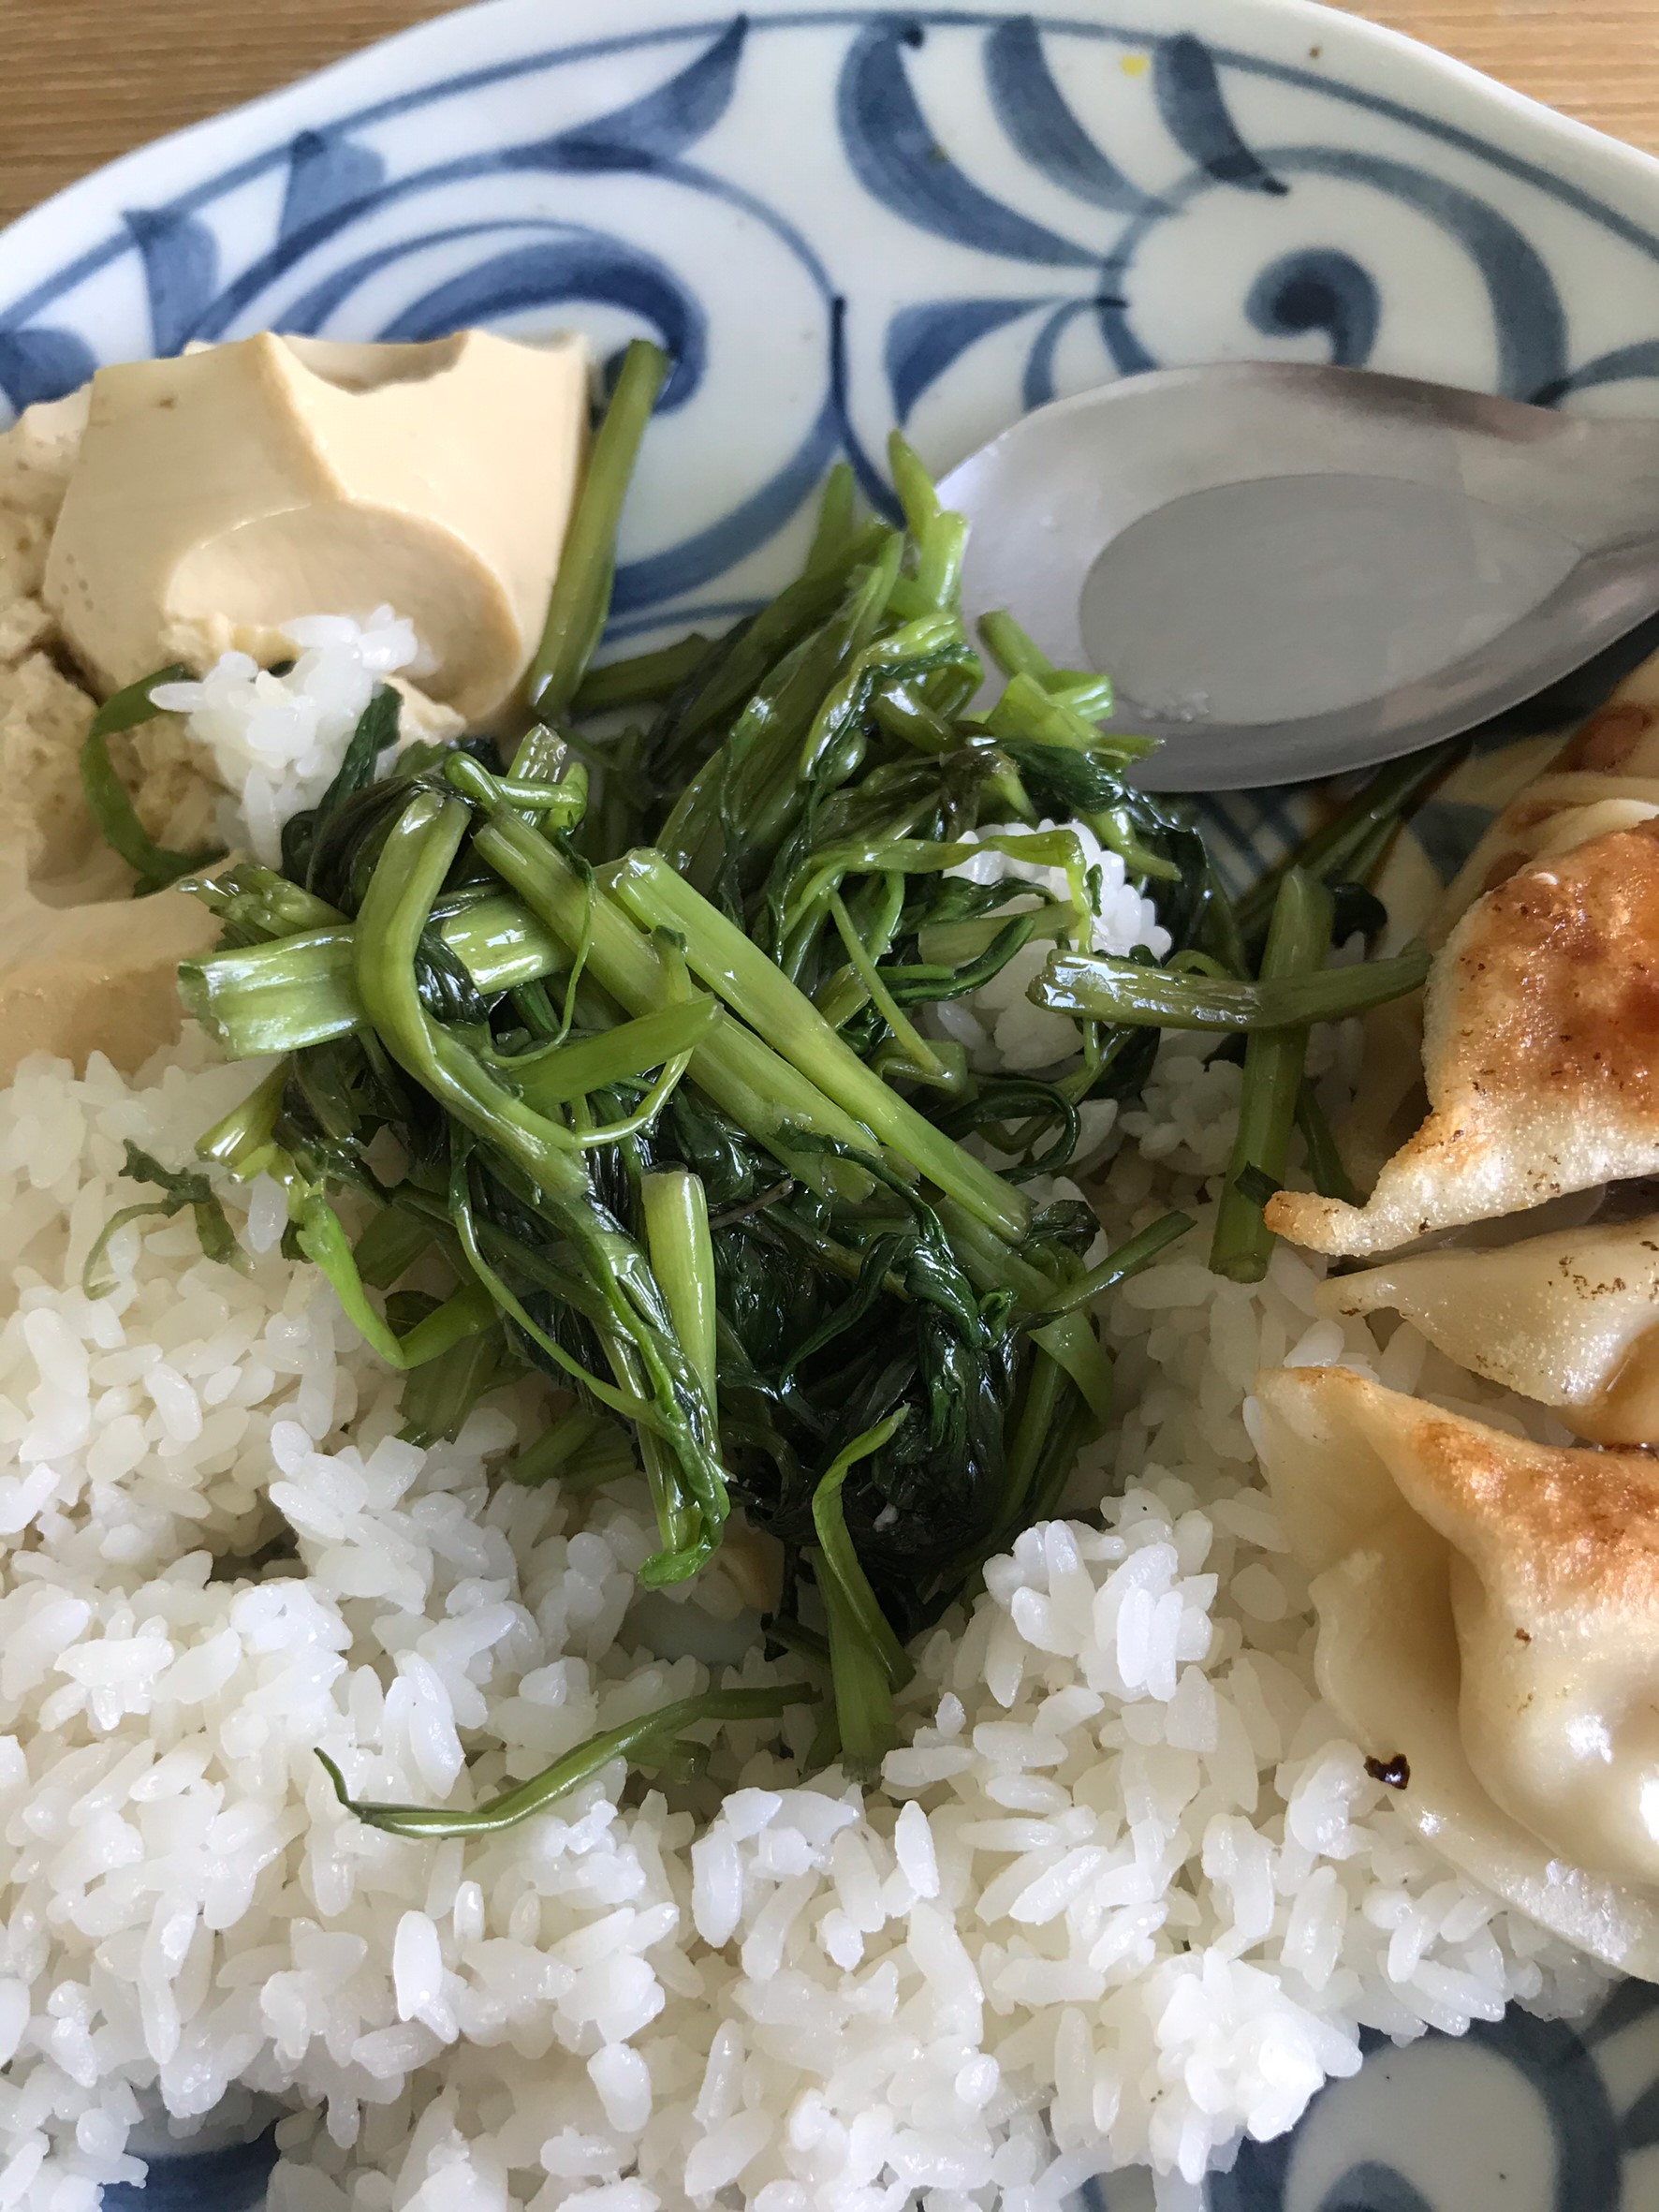fried_dumplings: (1269, 655, 1659, 1980)
rice: (2, 1443, 1248, 2212)
water_spinach: (376, 634, 1211, 1347)
